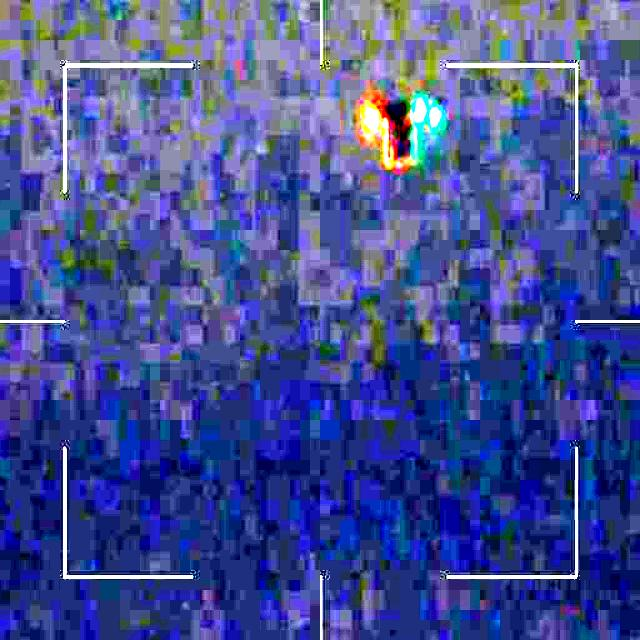bird: (355, 85, 438, 200)
